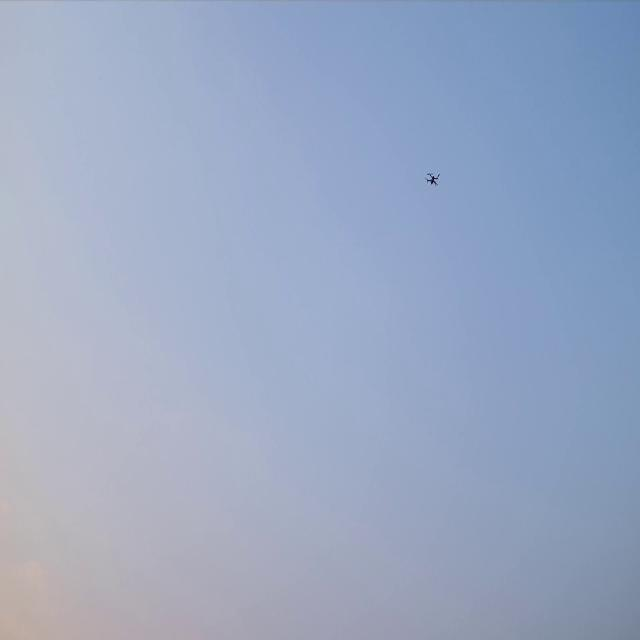UAV: (427, 173, 438, 184)
